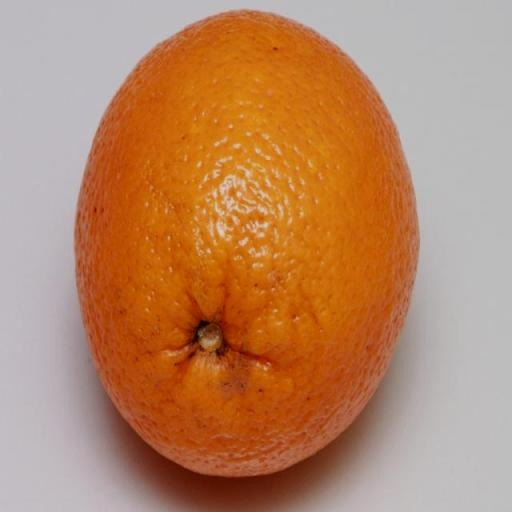fruit: (76, 12, 418, 475)
